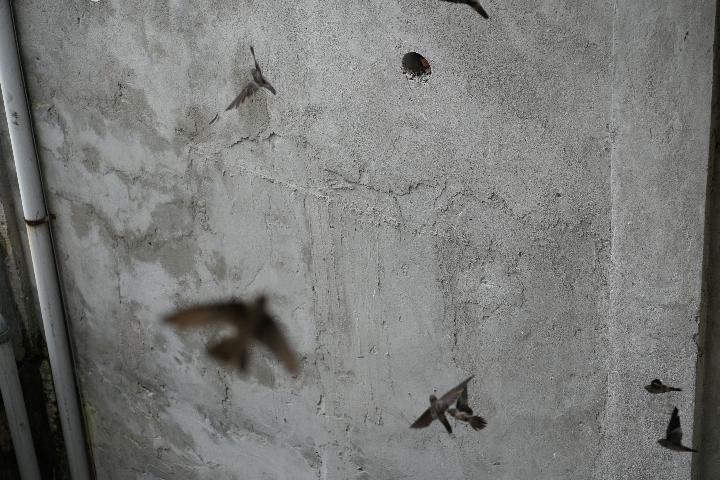walet: (213, 40, 283, 114), (652, 410, 702, 460), (640, 373, 684, 399)
